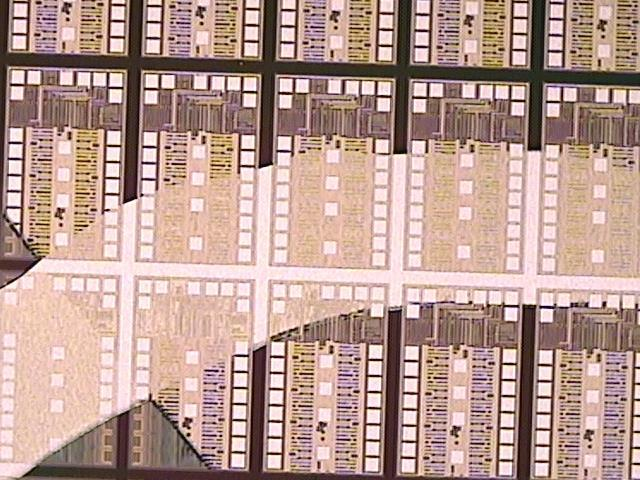COATING BAD: (1, 147, 640, 480)
